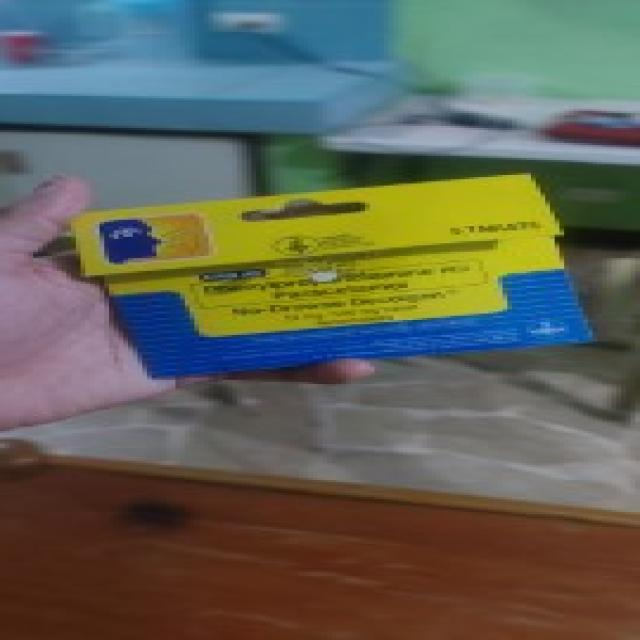Cacat: (65, 170, 600, 381)
